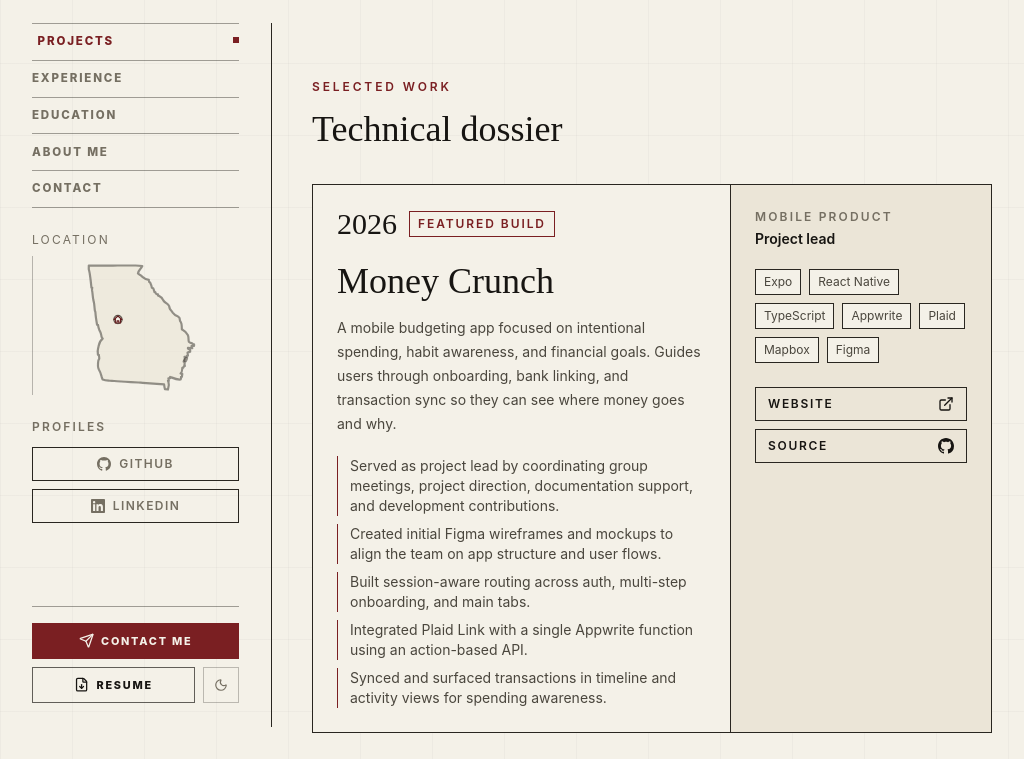
App › scrolls to a home section after navigating from a full page
Click the link with aria-label "Go to contact". click: (136, 190)
box: [32,171,239,208]
(page scrolled)
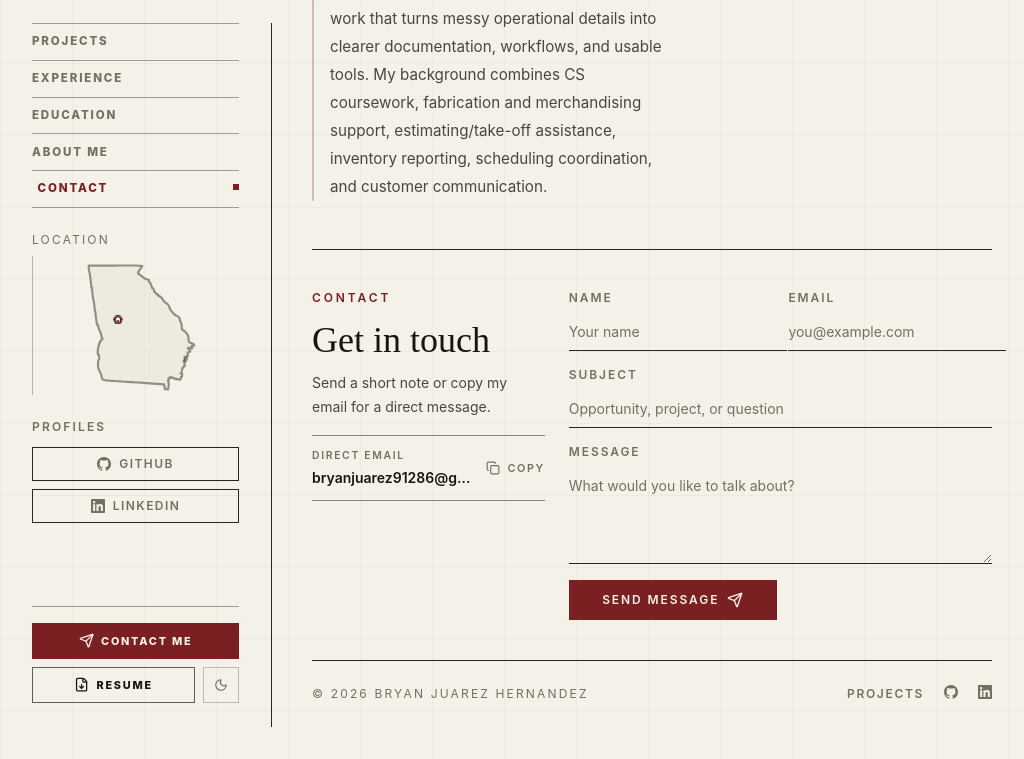
Expected: the heading "Get in touch" is shown, [312,320,490,360]
